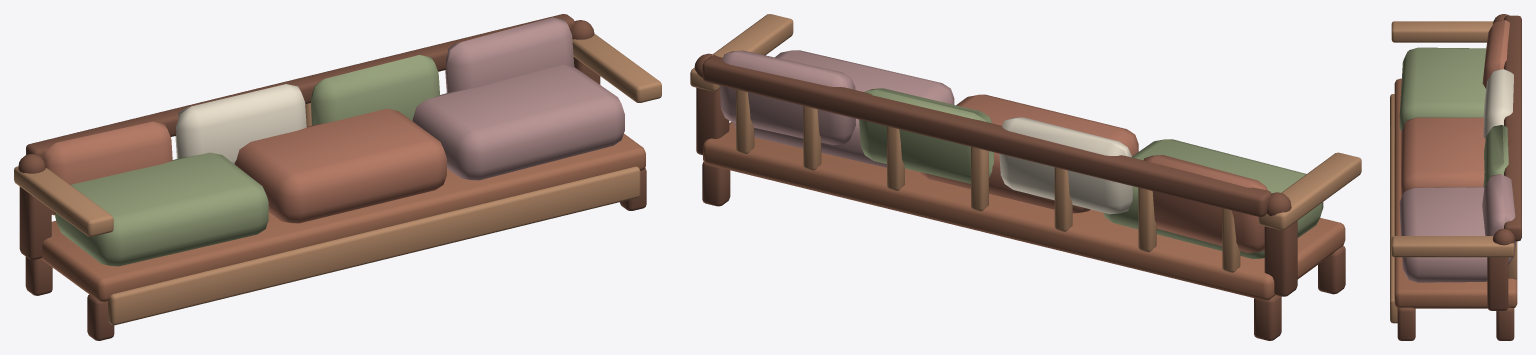
File: bench-sofa.glb
The picture shows the model from 3 angles, left to right: view 1: azimuth 30°, elevation 25°; view 2: azimuth 150°, elevation 25°; view 3: azimuth 270°, elevation 25°; orthographic projection. The views are drawn at different scales.
Parts seen in each view (by area): view 1: merged_wood_worn, merged_pink, merged_red, merged_green, seat-plank, merged_wood_dark, back-cushion-1; view 2: merged_wood_dark, seat-plank, merged_wood_worn, merged_pink, merged_green, merged_red, back-cushion-1; view 3: merged_pink, merged_green, merged_red, merged_wood_worn, merged_wood_dark, seat-plank, back-cushion-1.
Part boxes in pixels (x1,y1,x2,y2): merged_wood_worn: (14, 33, 661, 325); merged_pink: (412, 17, 624, 180); merged_red: (43, 108, 446, 223); merged_green: (55, 55, 439, 266); seat-plank: (40, 134, 645, 301); merged_wood_dark: (18, 14, 646, 340); back-cushion-1: (175, 84, 306, 164); merged_wood_dark: (694, 53, 1345, 340); seat-plank: (703, 122, 1345, 300); merged_wood_worn: (690, 14, 1361, 272); merged_pink: (719, 50, 954, 167); merged_green: (859, 88, 1323, 258); merged_red: (920, 94, 1267, 252); back-cushion-1: (999, 117, 1132, 214); merged_pink: (1399, 174, 1516, 282); merged_green: (1399, 47, 1508, 187); merged_red: (1401, 20, 1509, 197); merged_wood_worn: (1390, 21, 1517, 323); merged_wood_dark: (1397, 14, 1521, 340); seat-plank: (1394, 78, 1517, 308); back-cushion-1: (1483, 69, 1513, 138).
Size of the model in its own units: 3.55 by 0.8835 by 0.88.
